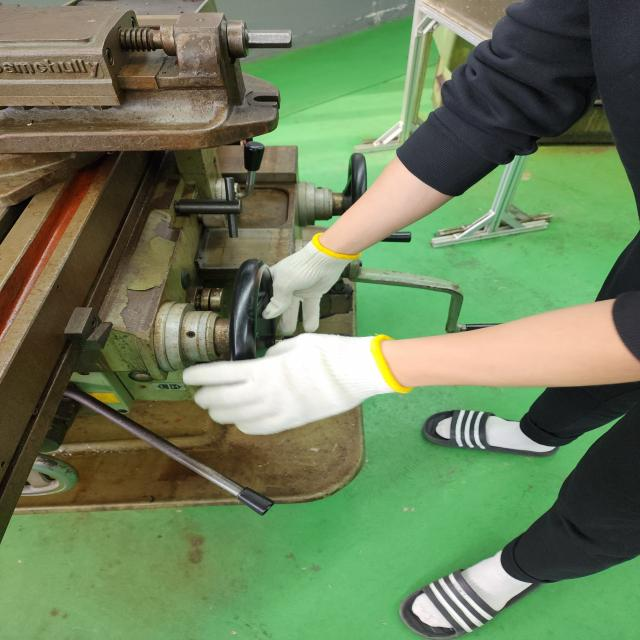Boots: (182, 332, 408, 437), (262, 239, 358, 325)
